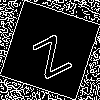Z: (25, 25, 73, 80)
